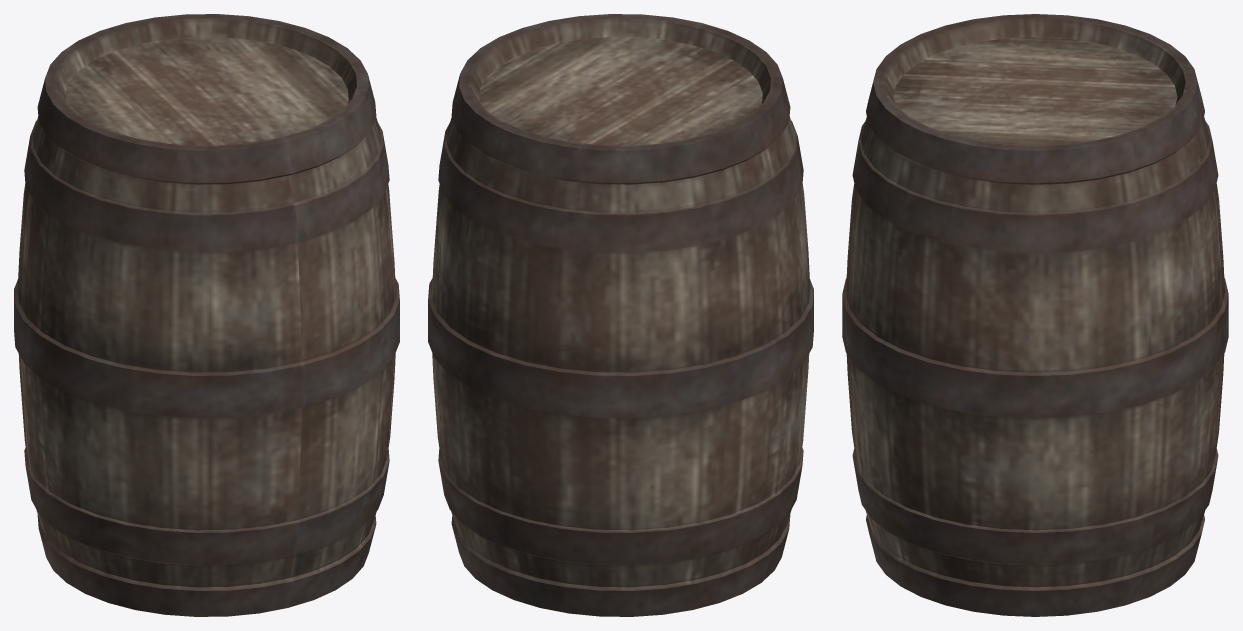
3 views of the same model, side by side, from view 1: azimuth 30°, elevation 25°; view 2: azimuth 150°, elevation 25°; view 3: azimuth 270°, elevation 25° (orthographic).
Visible parts, largest first — view 1: Object_2; view 2: Object_2; view 3: Object_2.
Part boxes in pixels (left/top/right/bottom): Object_2: left=14, top=14, right=399, bottom=616; Object_2: left=428, top=14, right=813, bottom=616; Object_2: left=842, top=14, right=1228, bottom=616.
Size of the model in its own units: 100 by 133 by 100.
Materials: 1 (1 with a texture image).
